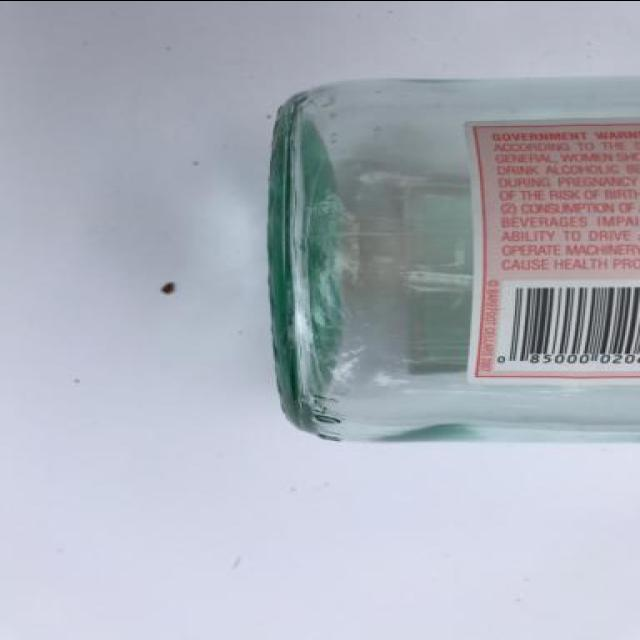Glass Bottle: (264, 70, 640, 444)
